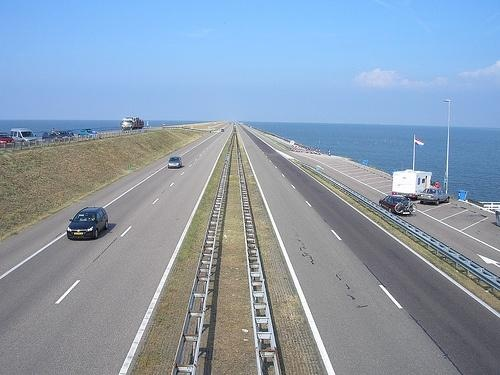car: (67, 207, 111, 243), (380, 196, 419, 216), (421, 190, 452, 207), (12, 129, 37, 141), (3, 131, 15, 148), (169, 157, 183, 170)
